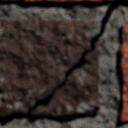brick: (118, 26, 127, 122), (0, 0, 110, 4)
broken_brick: (0, 20, 100, 115), (30, 37, 99, 116)
crack: (0, 0, 127, 126)
